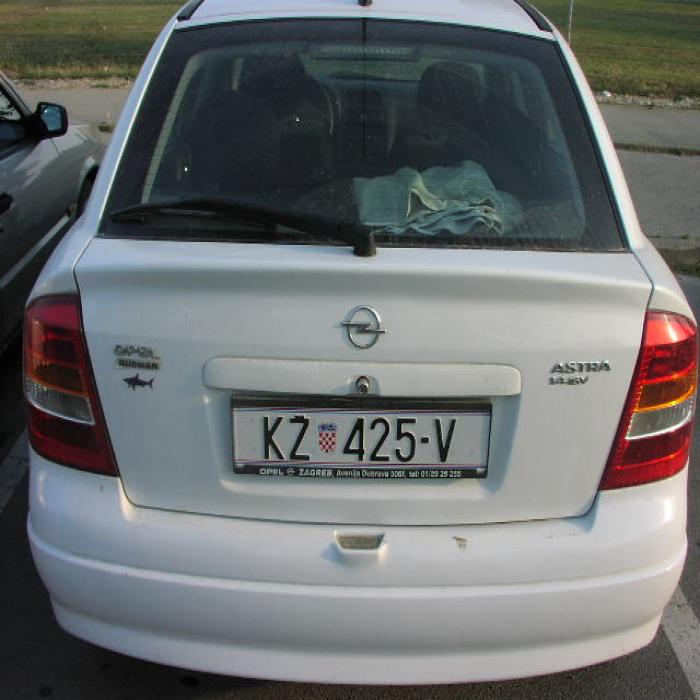number_plate: (230, 408, 485, 467)
